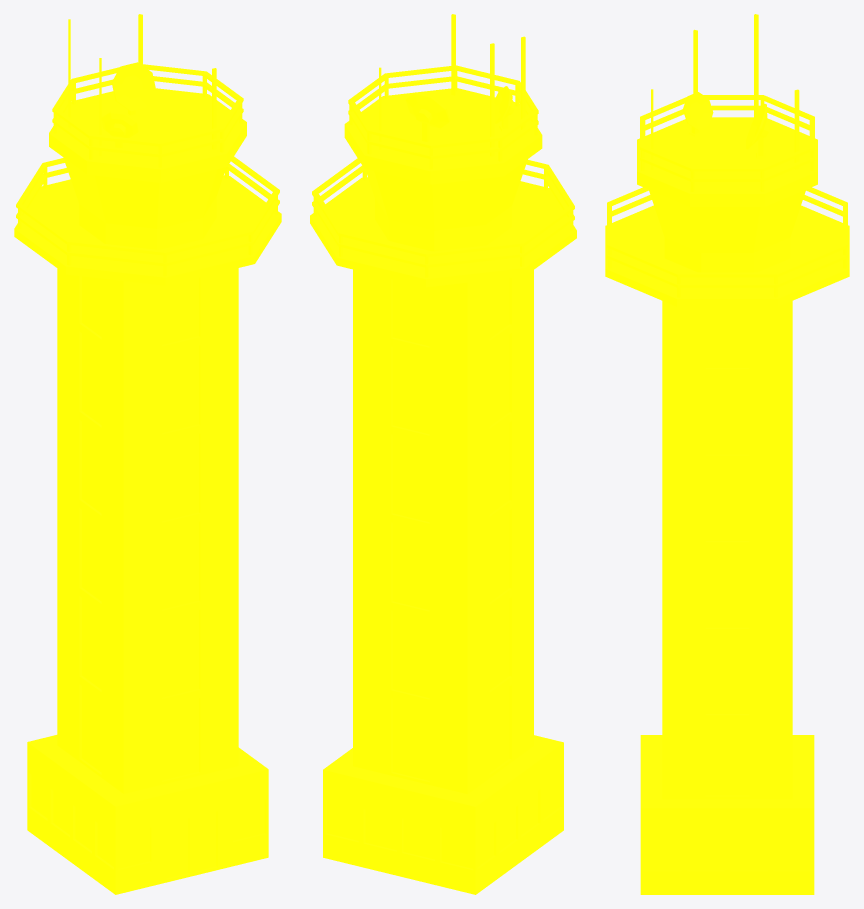
The model's file is control-tower.glb.
3 renders of one model, left to right at view 1: azimuth 30°, elevation 25°; view 2: azimuth 150°, elevation 25°; view 3: azimuth 270°, elevation 25°, orthographic.
Visible parts, largest first — view 1: control-tower; view 2: control-tower; view 3: control-tower.
Part boxes in pixels (bbox=[...]): control-tower: bbox=[14, 14, 281, 894]; control-tower: bbox=[310, 14, 576, 894]; control-tower: bbox=[605, 14, 849, 894].
Size of the model in its own units: 8.45 by 31 by 8.45.
1 material, 1 textured.
